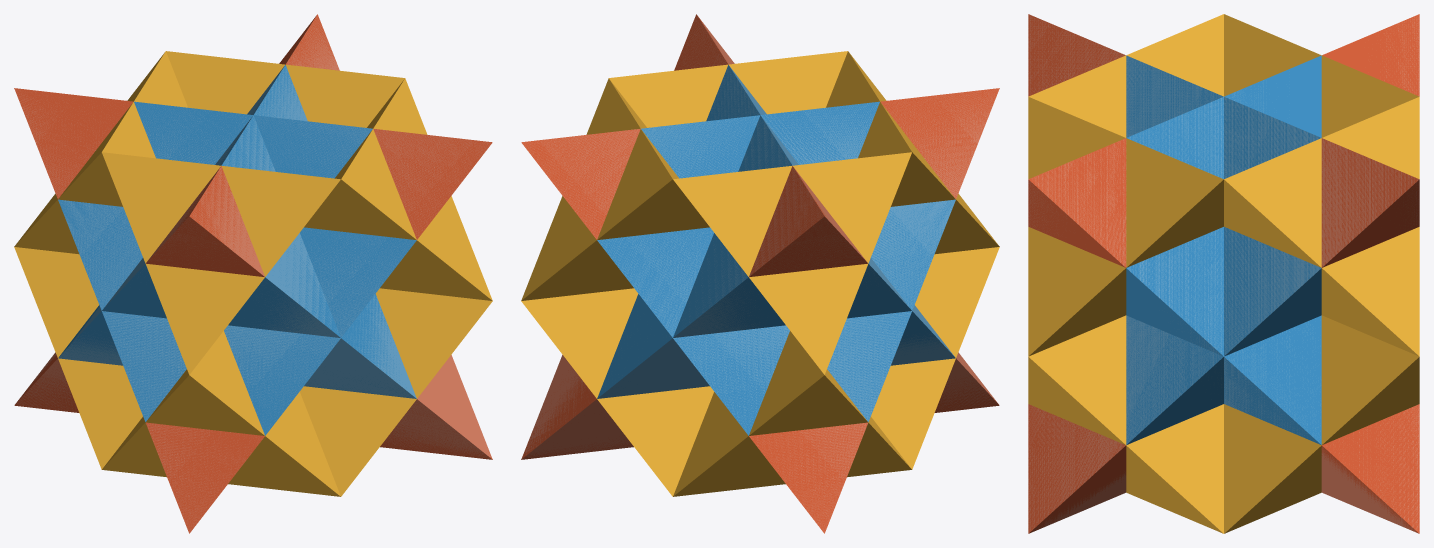
3 renders of one model, left to right at view 1: azimuth 30°, elevation 25°; view 2: azimuth 150°, elevation 25°; view 3: azimuth 270°, elevation 25°, orthographic. The views are drawn at different scales.
Visible parts, largest first — view 1: A1_vector_24, A2_within_24, A0_outward_8, large_star_ref; view 2: A1_vector_24, A2_within_24, A0_outward_8, large_star_ref; view 3: A1_vector_24, A2_within_24, A0_outward_8, large_star_ref.
Boxes of the visible parts, x1,y1,x2,y2 form: A1_vector_24: [14, 51, 492, 496]; A2_within_24: [58, 65, 416, 435]; A0_outward_8: [14, 14, 492, 533]; large_star_ref: [17, 30, 490, 492]; A1_vector_24: [521, 51, 999, 496]; A2_within_24: [597, 65, 955, 435]; A0_outward_8: [521, 14, 999, 533]; large_star_ref: [524, 25, 997, 490]; A1_vector_24: [1028, 14, 1419, 533]; A2_within_24: [1126, 55, 1321, 444]; A0_outward_8: [1028, 14, 1419, 533]; large_star_ref: [1028, 18, 1418, 531].
Bounding box in the file's own units: 2 × 2 × 2.
